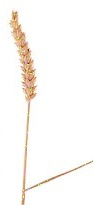wheat: (7, 8, 39, 113)
